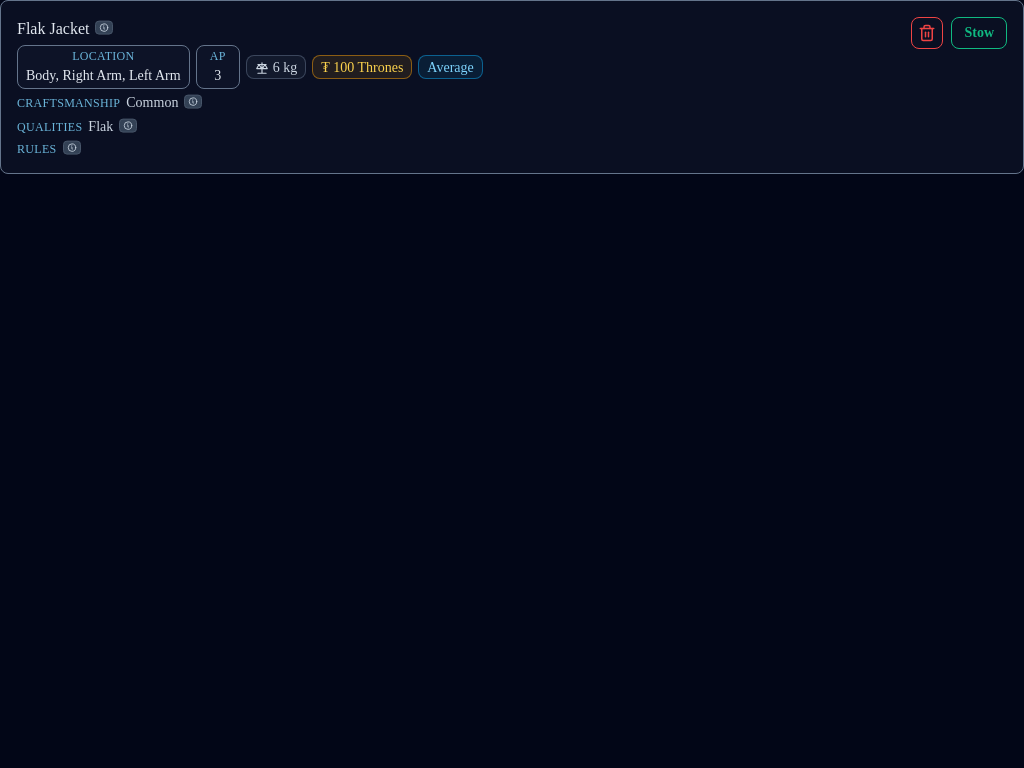
Test case: PieceRow shared layout › names the Remove pop-up after an Armour Piece
What coordinates should you click on to do the following:
click the button named "Remove Flak Jacket"
I would click on:
 (927, 33)
Its box is x1=911 y1=17 x2=943 y2=49.
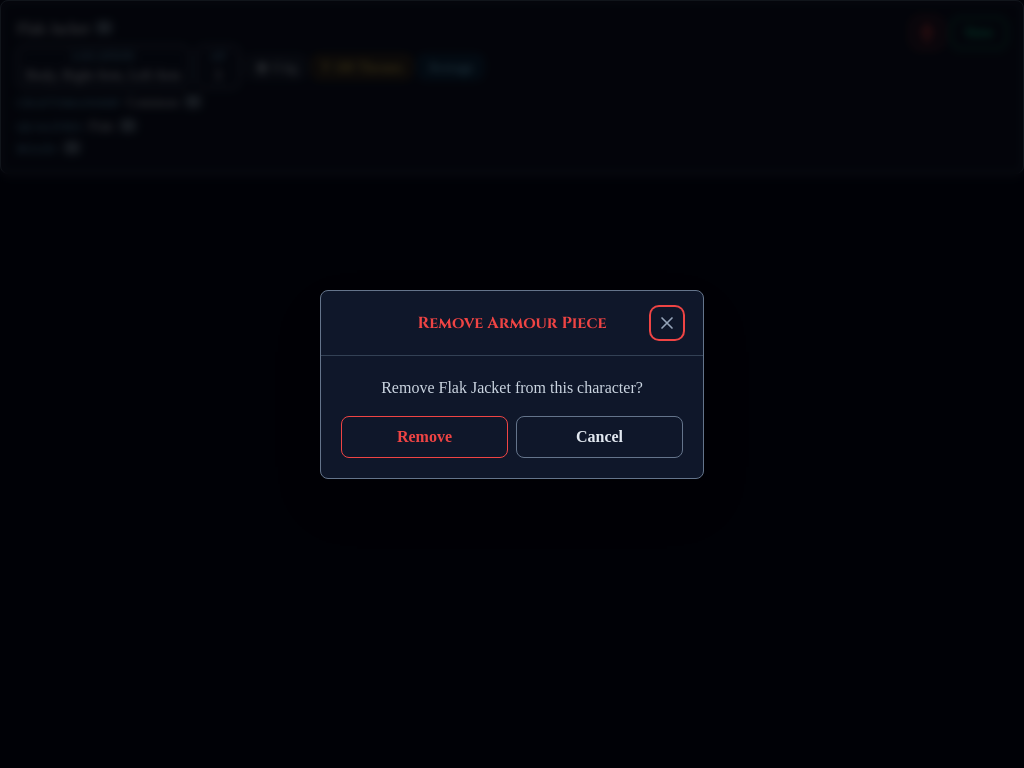
Expected: the dialog "Remove Armour Piece" is shown, x1=320 y1=290 x2=704 y2=478
